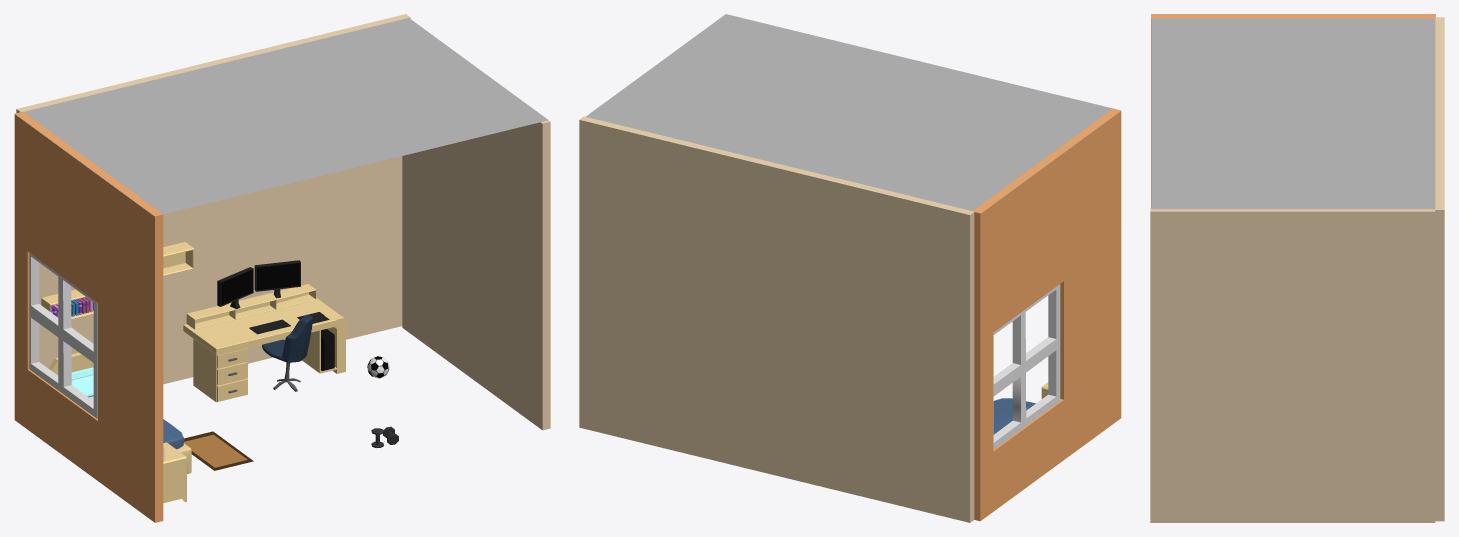
The model's file is Room.fbx.
The picture shows the model from 3 angles, left to right: view 1: azimuth 30°, elevation 25°; view 2: azimuth 150°, elevation 25°; view 3: azimuth 270°, elevation 25°; orthographic projection.
Parts seen in each view (by area): view 1: Roof.002, Roof.001, Roof.003, Desk, Window, Bed, Chair, Carpet, Pc1, Shelf, Table, Pc2; view 2: Roof.002, Roof.001, Roof.003, Window, Bed; view 3: Roof.002, Roof.001, Roof.003.
Boxes of the visible parts, <box> form: Roof.002: <box>16,14,550,430</box>; Roof.001: <box>14,18,548,216</box>; Roof.003: <box>14,112,163,522</box>; Desk: <box>183,284,345,402</box>; Window: <box>29,253,97,419</box>; Bed: <box>49,352,191,473</box>; Chair: <box>262,314,313,391</box>; Carpet: <box>184,431,253,470</box>; Pc1: <box>254,260,300,298</box>; Shelf: <box>41,242,193,319</box>; Table: <box>163,442,186,503</box>; Pc2: <box>217,267,253,309</box>; Roof.002: <box>579,116,974,522</box>; Roof.001: <box>586,14,1120,213</box>; Roof.003: <box>973,108,1121,521</box>; Window: <box>993,284,1060,449</box>; Bed: <box>993,386,1043,434</box>; Roof.002: <box>1150,17,1444,522</box>; Roof.001: <box>1151,14,1435,209</box>; Roof.003: <box>1151,14,1435,207</box>.
Bounding box in the file's own units: 487 × 362 × 309.
